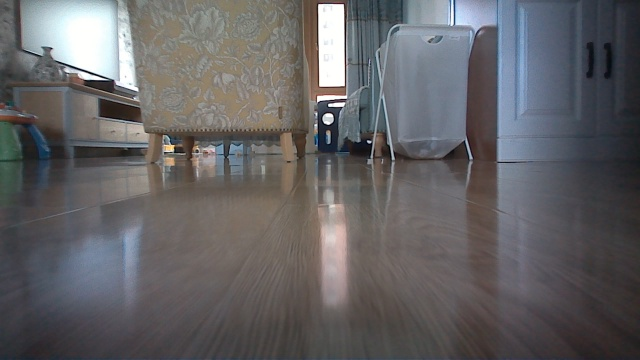TV_stand: (5, 76, 145, 161)
